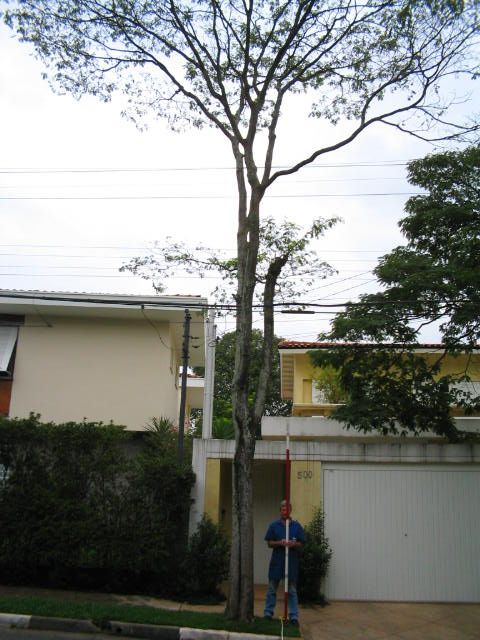crown: (5, 1, 478, 161)
stem: (223, 437, 262, 619)
stick: (277, 424, 295, 625)
tree: (4, 1, 480, 620)
